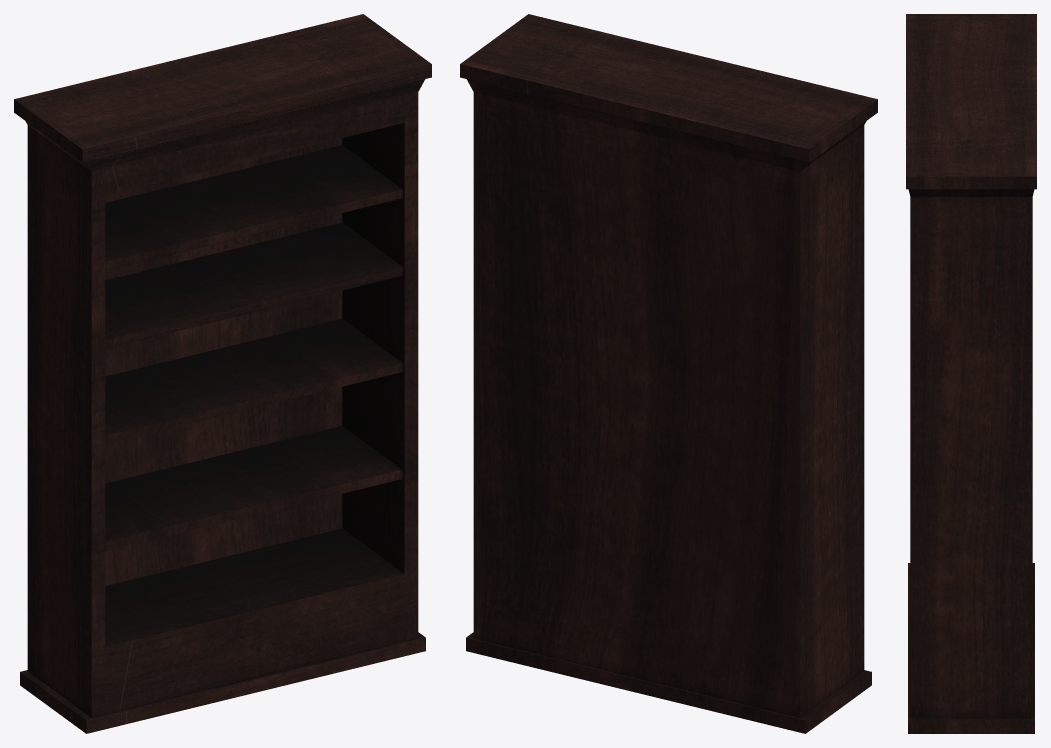
File: bookshelf.obj
The picture shows the model from 3 angles, left to right: view 1: azimuth 30°, elevation 25°; view 2: azimuth 150°, elevation 25°; view 3: azimuth 270°, elevation 25°; orthographic projection. The views are drawn at different scales.
Visible parts, largest first — view 1: bookshelf; view 2: bookshelf; view 3: bookshelf.
Part boxes in pixels (box(x1,y1,x2,y2)): bookshelf: box(14, 14, 431, 733); bookshelf: box(460, 14, 877, 733); bookshelf: box(906, 14, 1036, 733).
Size of the model in its own units: 2.68 by 4.3 by 0.9113.
1 material, 1 textured.
